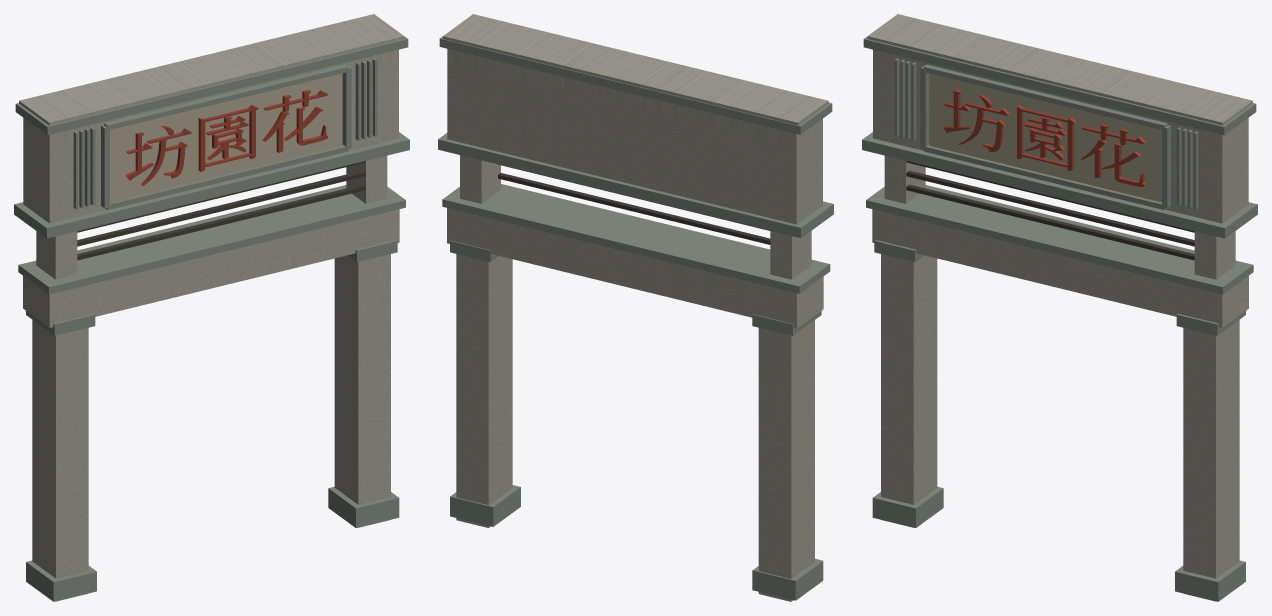
The model's file is huangpu-huayuanfang-lintel-and-triple-plaque-raw.glb.
The picture shows the model from 3 angles, left to right: view 1: azimuth 30°, elevation 25°; view 2: azimuth 150°, elevation 25°; view 3: azimuth 330°, elevation 25°; orthographic projection.
Visible parts, largest first — view 1: 花园坊瑞金二路三字额与叠梁弄门; view 2: 花园坊瑞金二路三字额与叠梁弄门; view 3: 花园坊瑞金二路三字额与叠梁弄门.
Boxes of the visible parts, bbox=[...] form: 花园坊瑞金二路三字额与叠梁弄门: bbox=[14, 14, 409, 601]; 花园坊瑞金二路三字额与叠梁弄门: bbox=[438, 14, 833, 601]; 花园坊瑞金二路三字额与叠梁弄门: bbox=[862, 14, 1257, 601].
Bounding box in the file's own units: 3.65 × 4.65 × 0.571.
5 materials, 1 textured.
